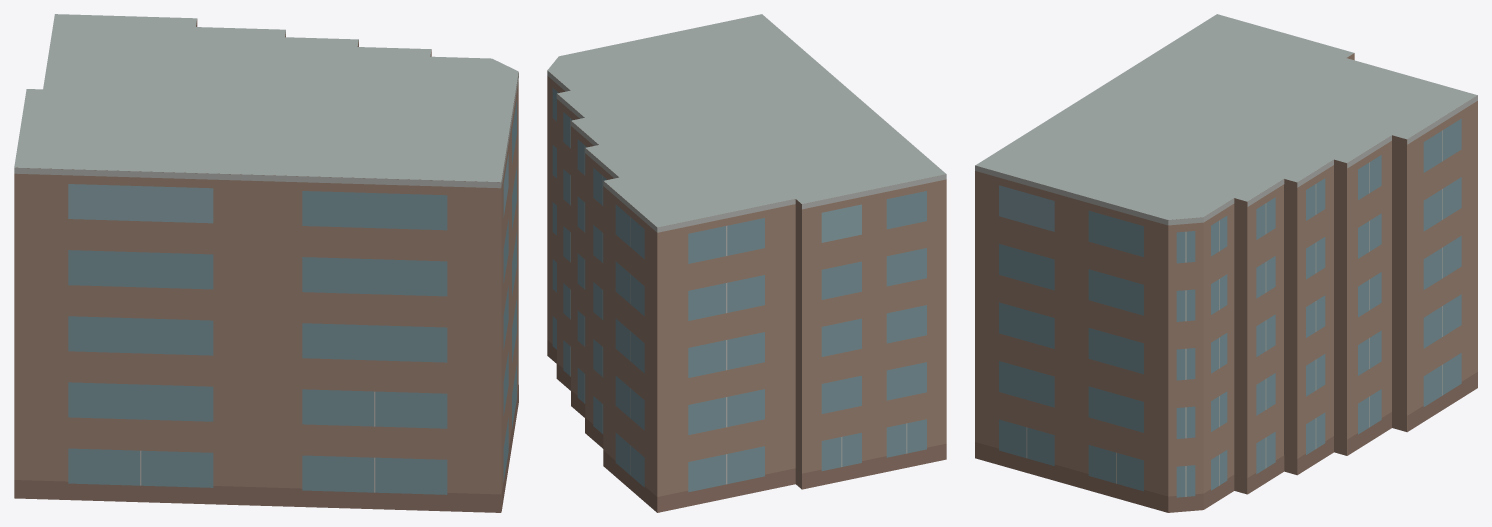
The model's file is survey-upis-32607566.glb.
3 renders of one model, left to right at view 1: azimuth 30°, elevation 25°; view 2: azimuth 150°, elevation 25°; view 3: azimuth 270°, elevation 25°, orthographic. The views are drawn at different scales.
Parts seen in each view (by area): view 1: survey-upis-32607566.tmp; view 2: survey-upis-32607566.tmp; view 3: survey-upis-32607566.tmp.
Part boxes in pixels (x1=…): survey-upis-32607566.tmp: x1=14, y1=14, x2=518, y2=512; survey-upis-32607566.tmp: x1=547, y1=14, x2=946, y2=512; survey-upis-32607566.tmp: x1=975, y1=14, x2=1477, y2=512.
Size of the model in its own units: 20.09 by 13.3 by 20.71.
